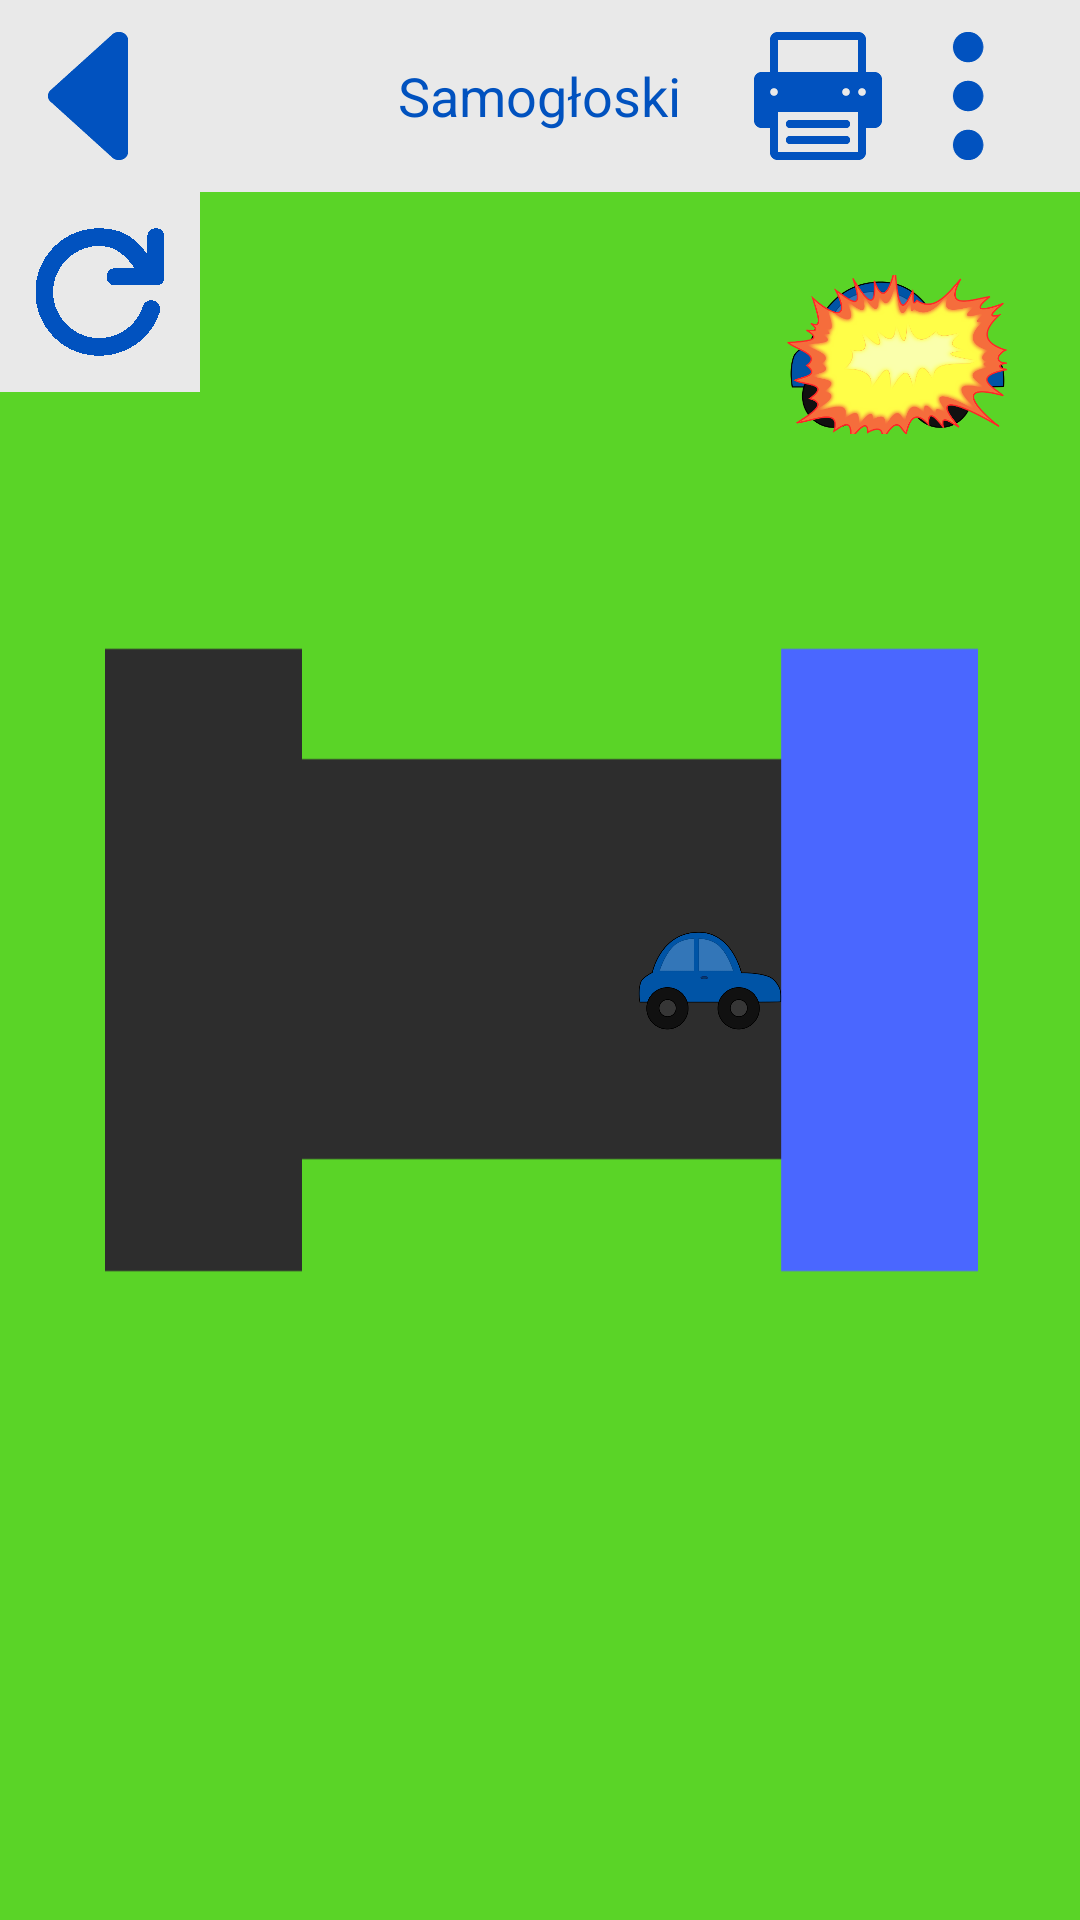

Where icons sit on this 1080w x 1920h app screen, as (x1, y1, x2, y2):
car: (639, 925, 785, 1036)
car crashed: (787, 275, 1007, 434)
Przycisk powrotu: (48, 32, 128, 160)
Przycisk ustawień: (953, 32, 984, 160)
Przycisk wydruku: (754, 32, 882, 160)
refresh: (36, 228, 164, 356)
